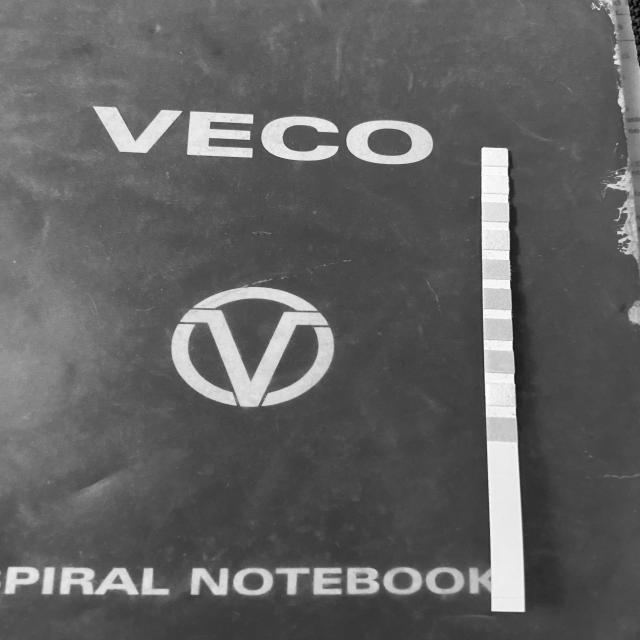Bilirubin: (486, 385, 515, 405)
Blood: (484, 290, 510, 308)
Glucose: (488, 419, 516, 440)
Ketone: (486, 352, 512, 372)
Leukocytes: (482, 149, 508, 166)
Nitrite: (483, 176, 508, 194)
Protein: (484, 231, 508, 249)
SpGravity: (485, 320, 511, 339)
Urobilinogen: (483, 204, 508, 221)
background: (0, 0, 640, 640)
pH: (483, 260, 509, 279)
strip: (481, 147, 525, 612)
